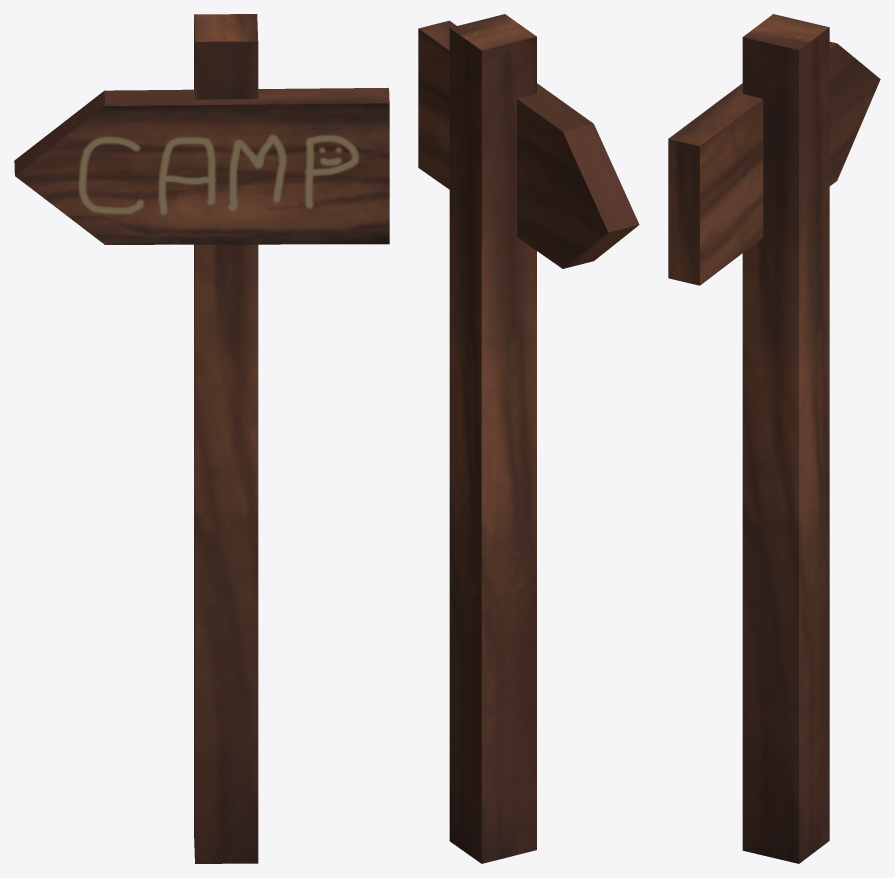
The model's file is pole.fbx.
3 renders of one model, left to right at view 1: azimuth 30°, elevation 25°; view 2: azimuth 150°, elevation 25°; view 3: azimuth 270°, elevation 25°, orthographic.
Visible parts, largest first — view 1: custom_pole; view 2: custom_pole; view 3: custom_pole.
Part boxes in pixels (bbox=[...]): custom_pole: bbox=[14, 14, 389, 863]; custom_pole: bbox=[418, 14, 639, 863]; custom_pole: bbox=[668, 14, 880, 863].
Size of the model in its own units: 29.32 by 77.08 by 18.23.
Materials: 1 (1 with a texture image).
